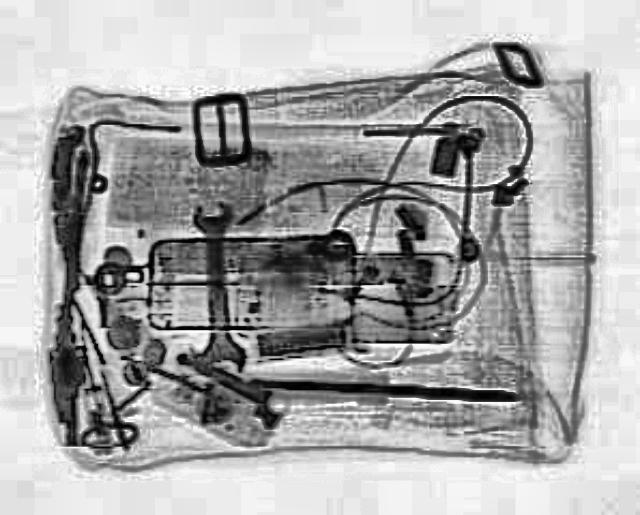Wrench: (185, 199, 245, 371)
